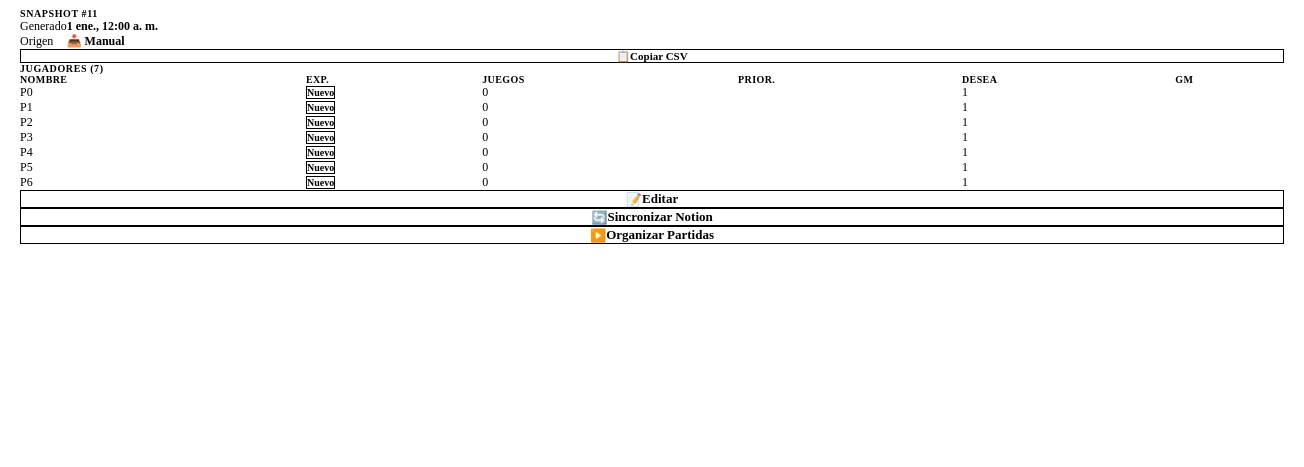
Test: SnapshotDetail › Organizar Validation › should show modal if all players have 1 ticket
Step 1. Click the button "▶️ Organizar Partidas" → (652,235), box [20, 226, 1284, 244]
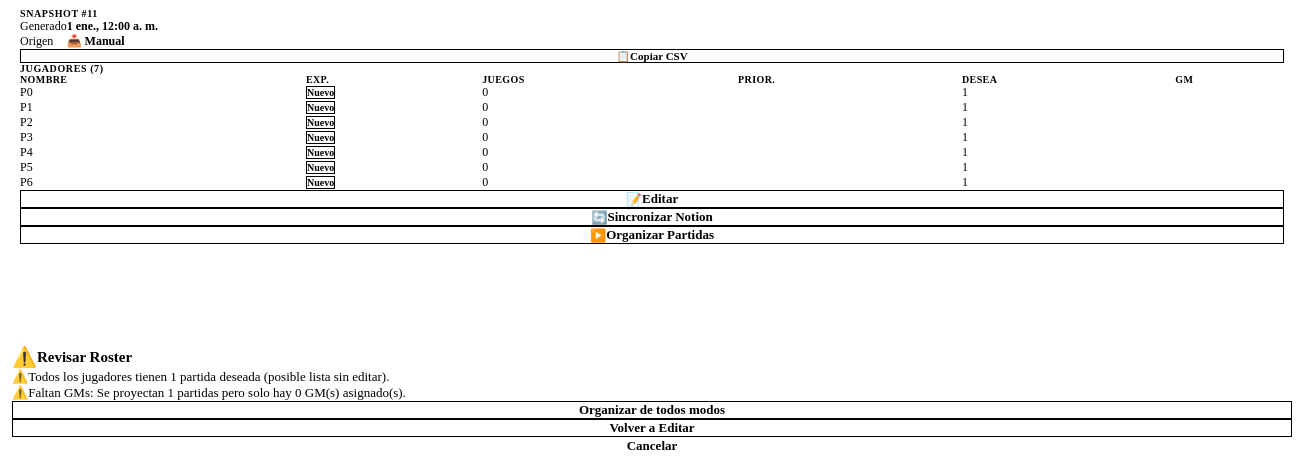
Now the text "Revisar Roster" is shown, box [37, 348, 132, 366]
